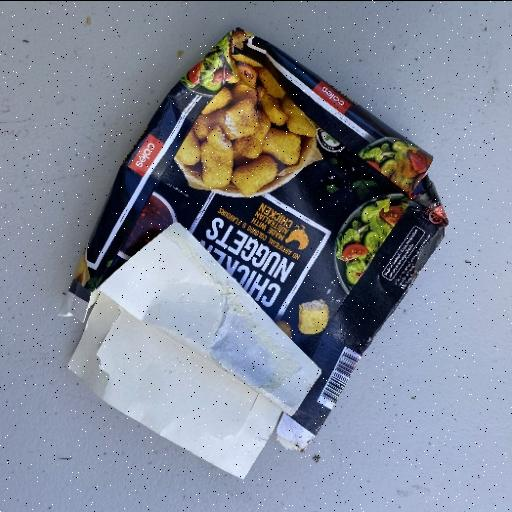Cardboard: (60, 26, 450, 478)
